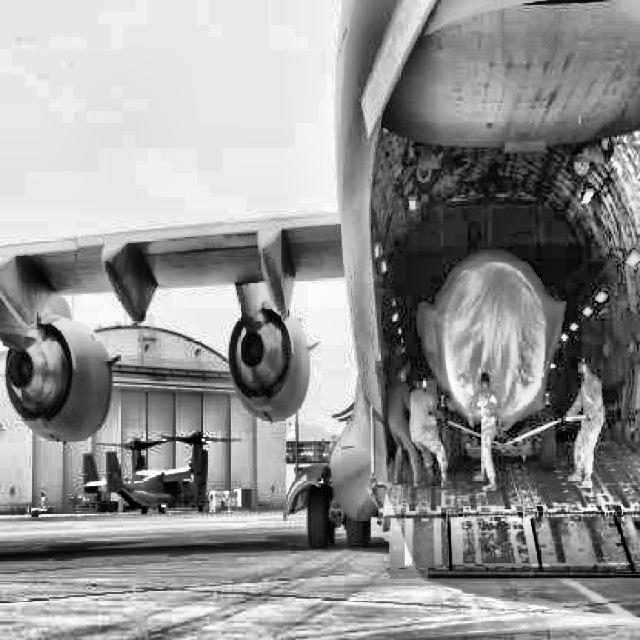C17: (0, 0, 638, 580)
V22: (81, 432, 242, 514)
